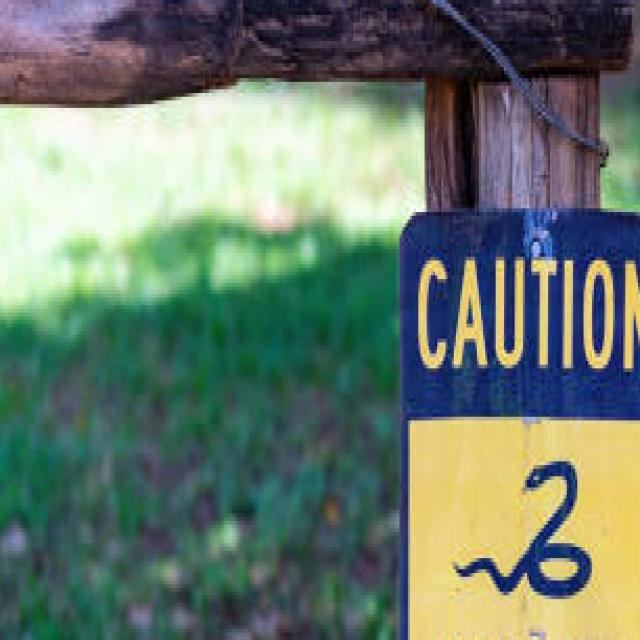snake: (447, 446, 600, 621)
